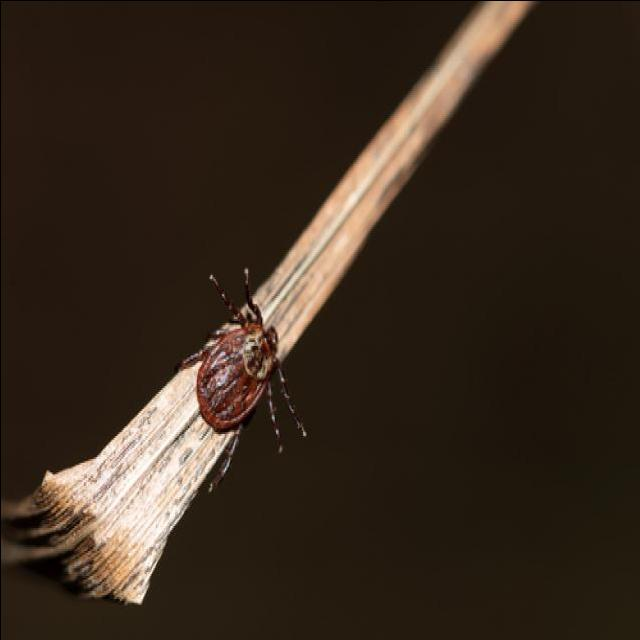Dermacentor Reticulatus-F: (179, 268, 306, 494)
